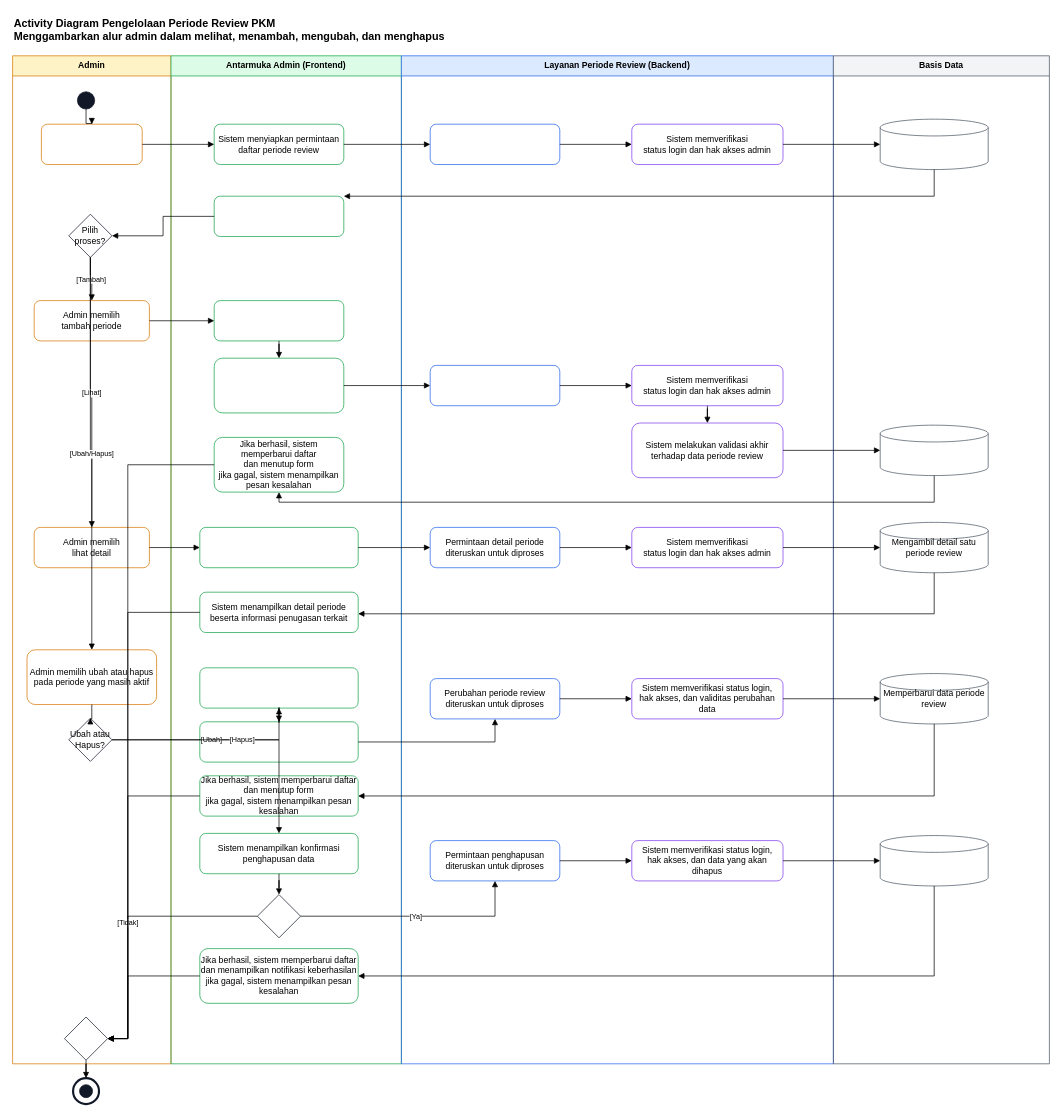
This 1062x1117 diagram has some shape labels left out. The centre of each missing label's shape, as x and y in pixels:
"Admin membuka menu periode review" goes at [91,144].
"Data periode baru dikirim untuk diproses" goes at [494,385].
"Konfirmasi?" goes at [279,916].
"Mengambil data periode review" goes at [933,144].
"Menghapus data periode review" goes at [933,860].
"Menyimpan data periode review baru" goes at [933,450].
"Permintaan daftar periode diteruskan untuk diproses" goes at [494,144].
"Sistem membuka halaman detail periode terpilih" goes at [278,547].
"Sistem memeriksa data perubahan kemudian mengirimkannya untuk diproses" goes at [278,741].
"Sistem memeriksa kelengkapan data masukan dan kesesuaian tanggal" goes at [278,385].
"Sistem menampilkan daftar periode berdasarkan status periode" goes at [278,216].
"Sistem menampilkan form input periode" goes at [278,320].
"Sistem menampilkan form ubah berisi data periode saat ini" goes at [278,687].
